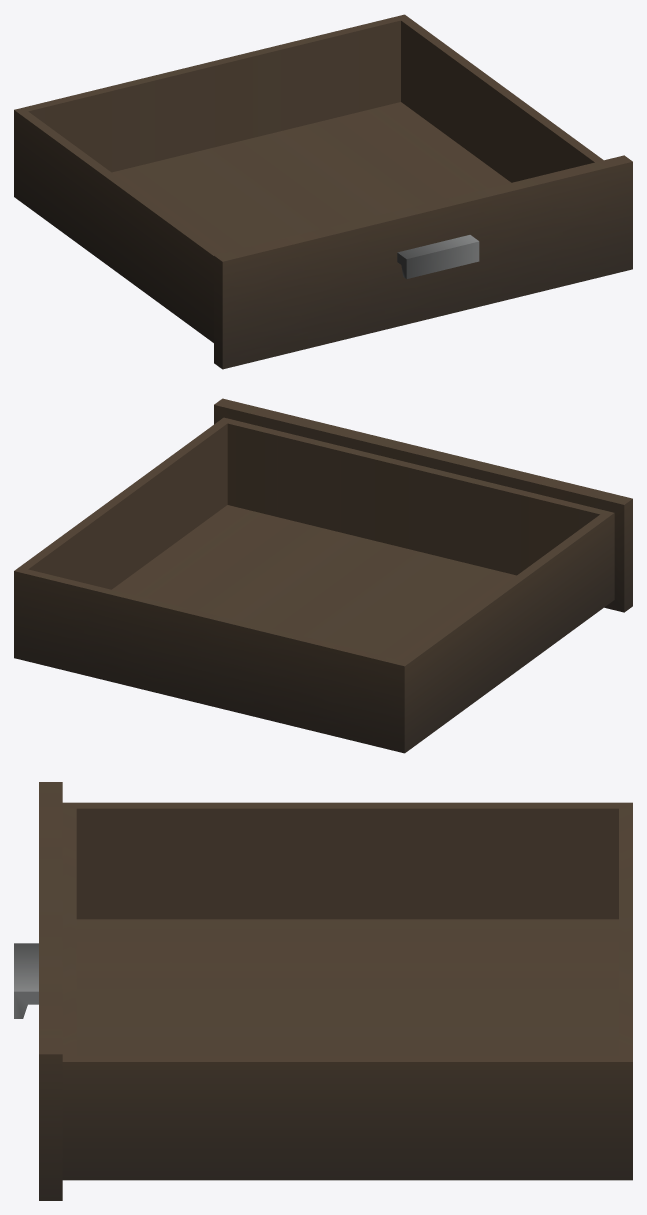
The model's file is Drawer_SideboardCabinet_Brown_small.fbx.
The picture shows the model from 3 angles, top to bottom: view 1: azimuth 30°, elevation 25°; view 2: azimuth 150°, elevation 25°; view 3: azimuth 270°, elevation 25°; orthographic projection. The views are drawn at different scales.
Parts seen in each view (by area): view 1: Drawer_SideboardCabinet_Brown_small; view 2: Drawer_SideboardCabinet_Brown_small; view 3: Drawer_SideboardCabinet_Brown_small.
Boxes of the visible parts, left/top/right/bottom form: Drawer_SideboardCabinet_Brown_small: left=14, top=14, right=632, bottom=369; Drawer_SideboardCabinet_Brown_small: left=14, top=398, right=632, bottom=753; Drawer_SideboardCabinet_Brown_small: left=14, top=782, right=632, bottom=1200.
Bounding box in the file's own units: 67.5 × 16.92 × 64.83.
